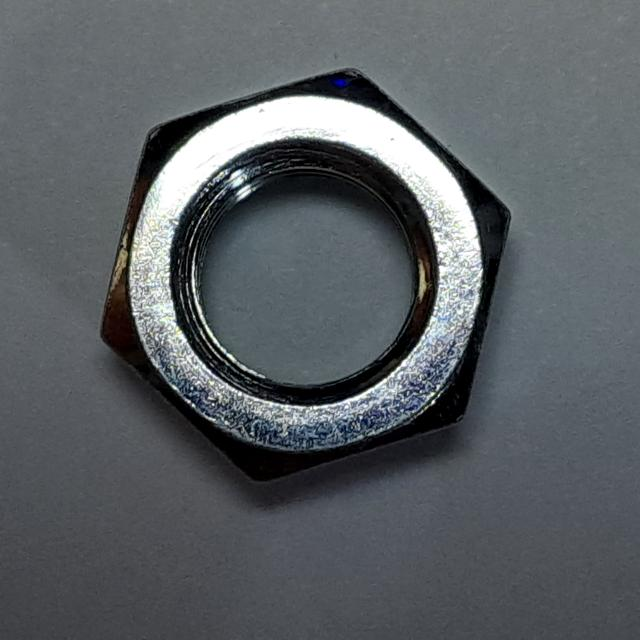Excellent: (79, 53, 528, 498)
